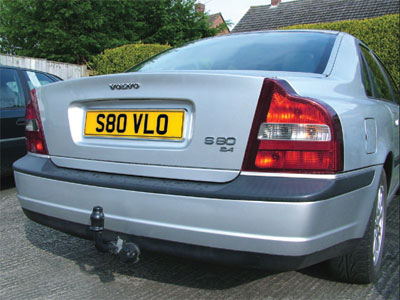licencePlate: (81, 107, 187, 139)
